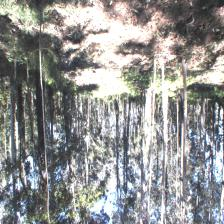trunktrack_idkeyframe: (181, 60, 188, 135), (152, 60, 157, 94)
